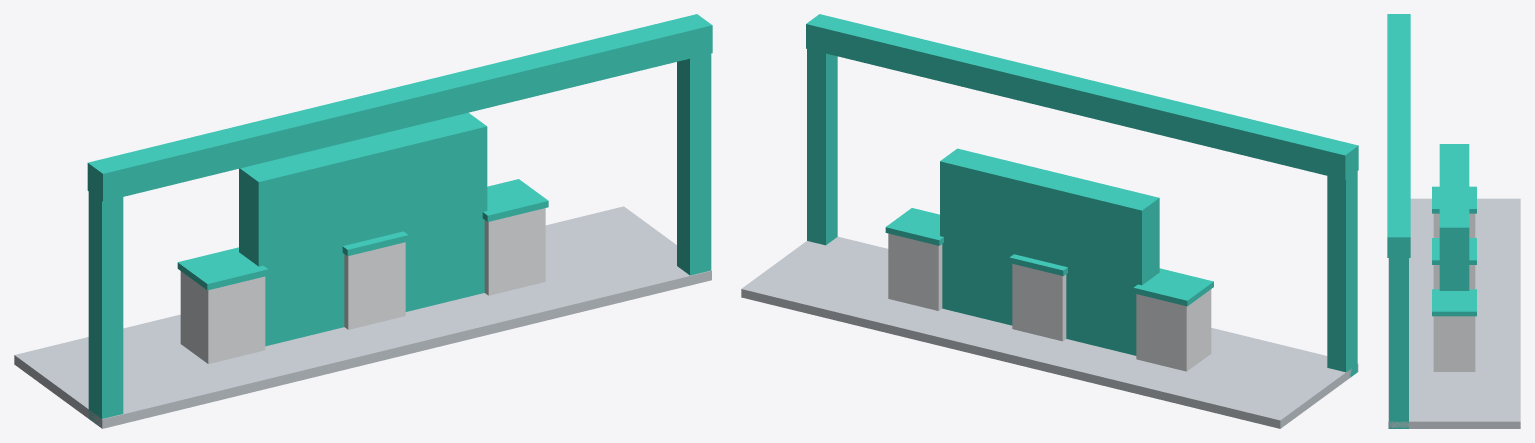
The picture shows the model from 3 angles, left to right: view 1: azimuth 30°, elevation 25°; view 2: azimuth 150°, elevation 25°; view 3: azimuth 270°, elevation 25°; orthographic projection. The views are drawn at different scales.
Visible parts, largest first — view 1: Exhibition Booth Concept; view 2: Exhibition Booth Concept; view 3: Exhibition Booth Concept.
Part boxes in pixels (bbox=[...]): Exhibition Booth Concept: bbox=[14, 14, 712, 428]; Exhibition Booth Concept: bbox=[741, 14, 1358, 428]; Exhibition Booth Concept: bbox=[1387, 14, 1520, 428].
Size of the model in its own units: 8 by 3.2 by 2.01.
